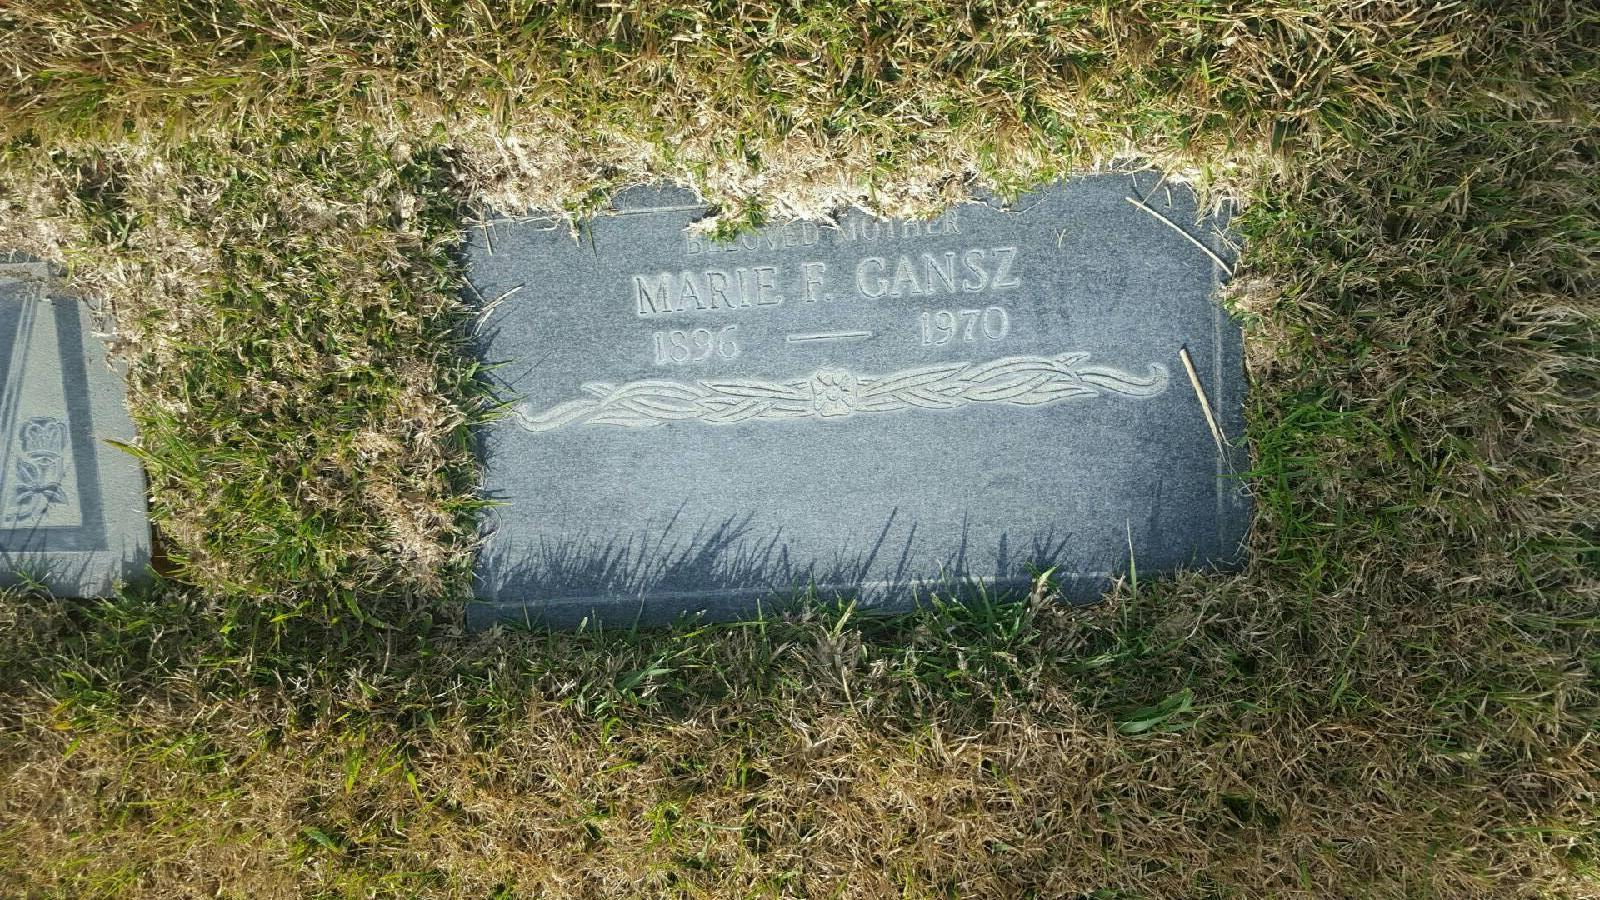flat: (446, 158, 1251, 616)
